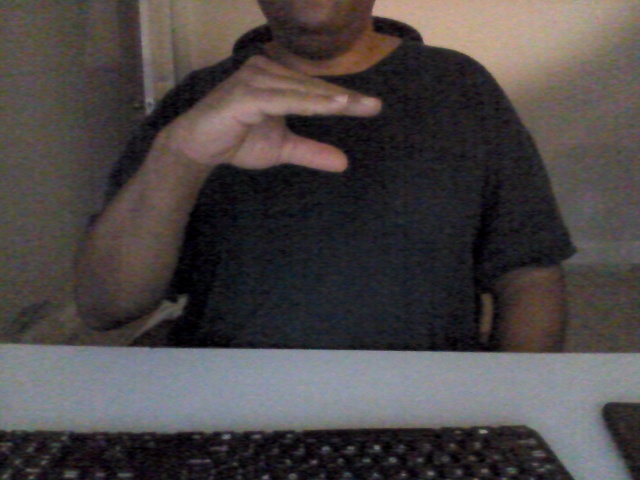no: (164, 56, 389, 185)
